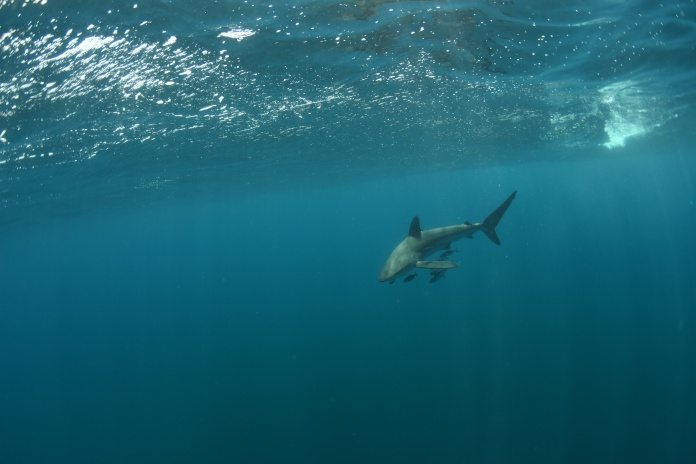Mako: (362, 181, 524, 298)
